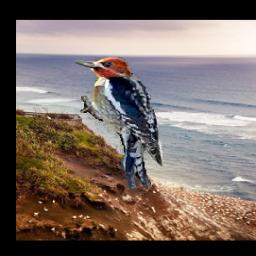Woodpecker: (74, 58, 162, 191)
